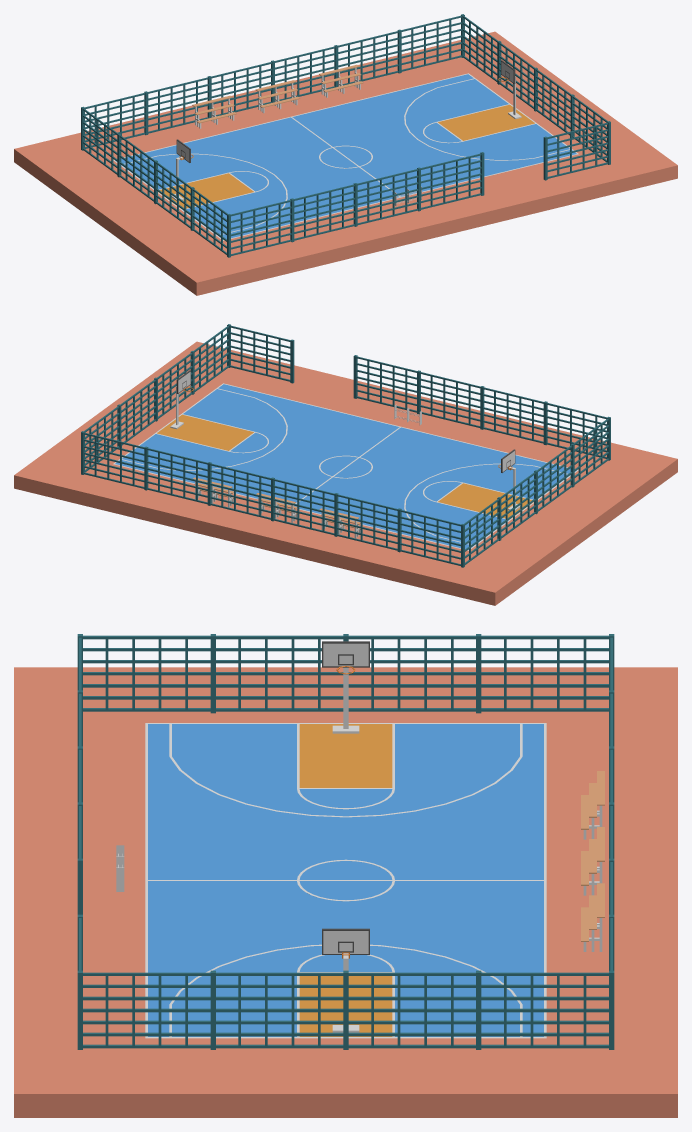
File: basketball_collision.glb
The picture shows the model from 3 angles, top to bottom: view 1: azimuth 30°, elevation 25°; view 2: azimuth 150°, elevation 25°; view 3: azimuth 270°, elevation 25°; orthographic projection. The views are drawn at different scales.
Visible parts, largest first — view 1: Ground, PlayingField, MeshWall, Court_Lines, FreeThrowZoneA, FreeThrowZoneB; view 2: Ground, PlayingField, MeshWall, Court_Lines, FreeThrowZoneA, FreeThrowZoneB; view 3: Ground, PlayingField, MeshWall, Court_Lines, FreeThrowZoneB, FreeThrowZoneA, MainBoard, MainBoard.001, Planks, Planks.001, Planks.002.
Part boxes in pixels (bbox=[...]): Ground: bbox=[14, 31, 677, 295]; PlayingField: bbox=[115, 74, 576, 239]; MeshWall: bbox=[81, 14, 610, 257]; Court_Lines: bbox=[113, 73, 578, 240]; FreeThrowZoneA: bbox=[438, 104, 534, 140]; FreeThrowZoneB: bbox=[158, 173, 253, 208]; Ground: bbox=[14, 341, 677, 605]; PlayingField: bbox=[115, 384, 576, 549]; MeshWall: bbox=[81, 324, 610, 567]; Court_Lines: bbox=[113, 383, 578, 550]; FreeThrowZoneA: bbox=[157, 414, 253, 450]; FreeThrowZoneB: bbox=[438, 483, 533, 518]; Ground: bbox=[14, 667, 677, 1117]; PlayingField: bbox=[148, 724, 543, 1036]; MeshWall: bbox=[77, 634, 614, 1049]; Court_Lines: bbox=[145, 723, 546, 1038]; FreeThrowZoneB: bbox=[299, 724, 392, 787]; FreeThrowZoneA: bbox=[299, 976, 392, 1036]; MainBoard: bbox=[322, 641, 369, 667]; MainBoard.001: bbox=[322, 928, 369, 954]; Planks: bbox=[581, 827, 604, 885]; Planks.001: bbox=[581, 771, 604, 829]; Planks.002: bbox=[581, 883, 604, 941].
Size of the model in its own units: 38 by 4.95 by 25.
